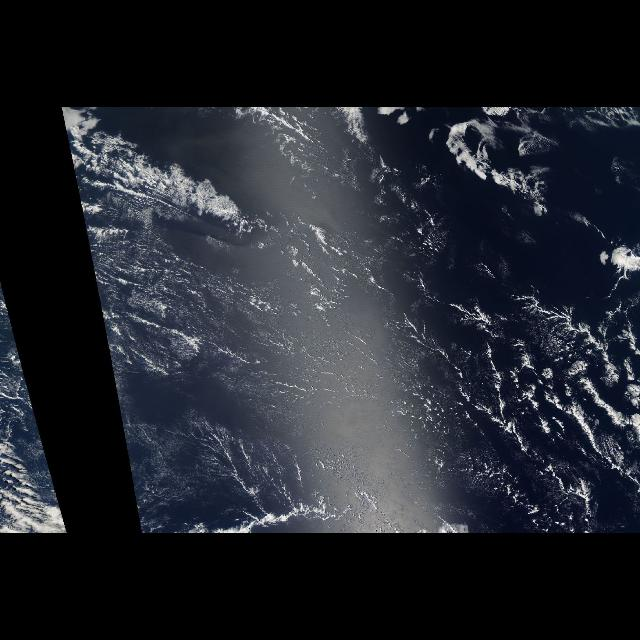Fish: (462, 282, 628, 488)
Sugar: (89, 195, 428, 521)
